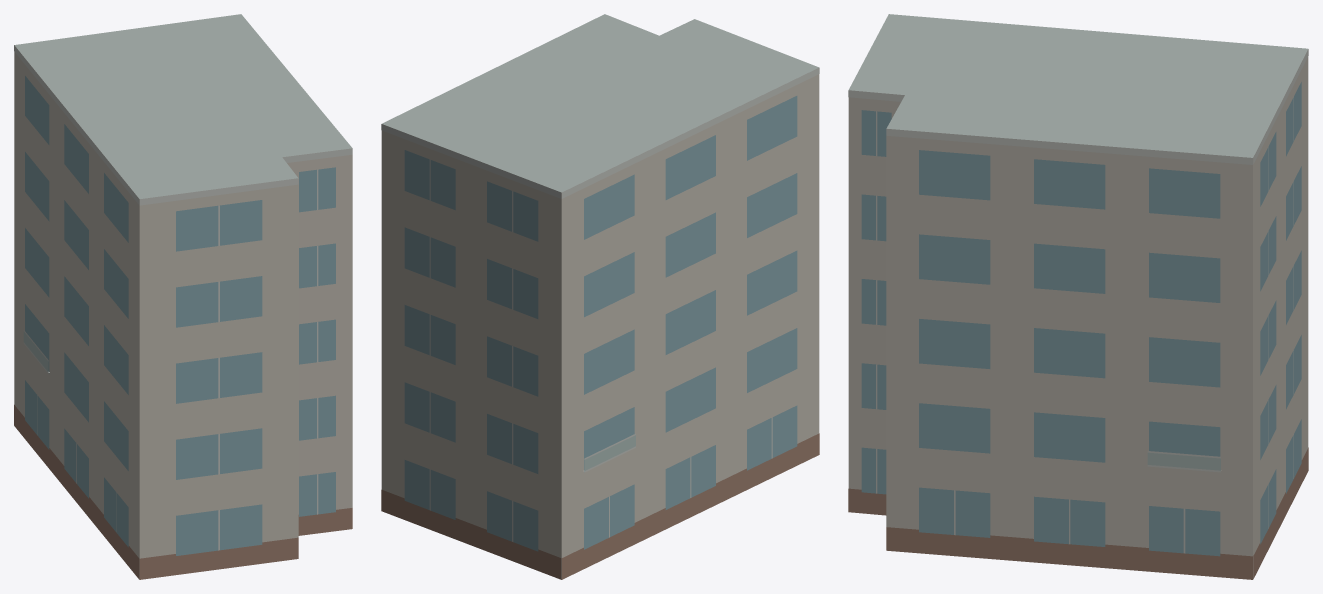
File: survey-upis-32853479.glb
3 renders of one model, left to right at view 1: azimuth 30°, elevation 25°; view 2: azimuth 150°, elevation 25°; view 3: azimuth 270°, elevation 25°, orthographic. The views are drawn at different scales.
Parts seen in each view (by area): view 1: survey-upis-32853479.tmp; view 2: survey-upis-32853479.tmp; view 3: survey-upis-32853479.tmp.
Boxes of the visible parts, x1,y1,x2,y2 form: survey-upis-32853479.tmp: (14, 14, 352, 579); survey-upis-32853479.tmp: (381, 14, 819, 579); survey-upis-32853479.tmp: (848, 14, 1308, 579).
Bounding box in the file's own units: 10.65 × 14.55 × 14.39.
